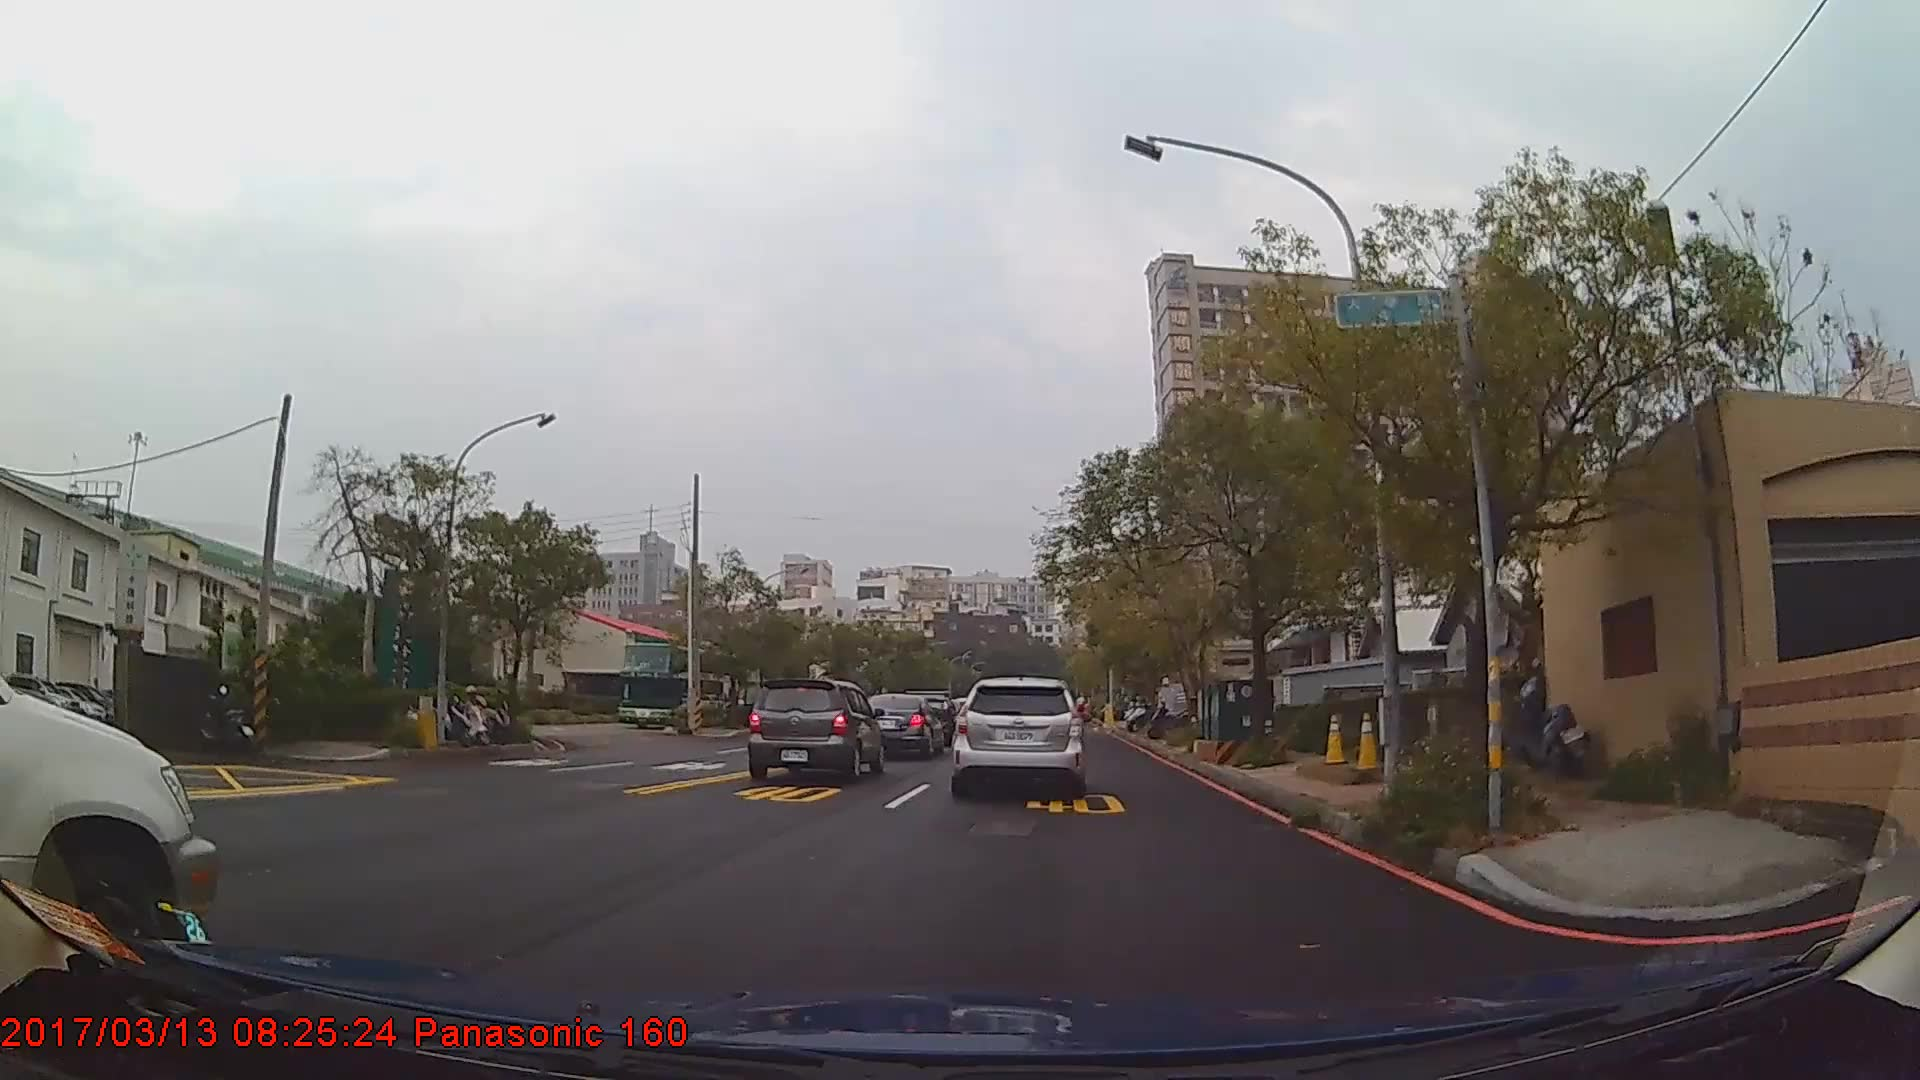vehicle: (1, 688, 229, 1004), (948, 675, 1083, 794), (742, 675, 887, 781), (615, 640, 745, 731), (855, 691, 948, 760)
